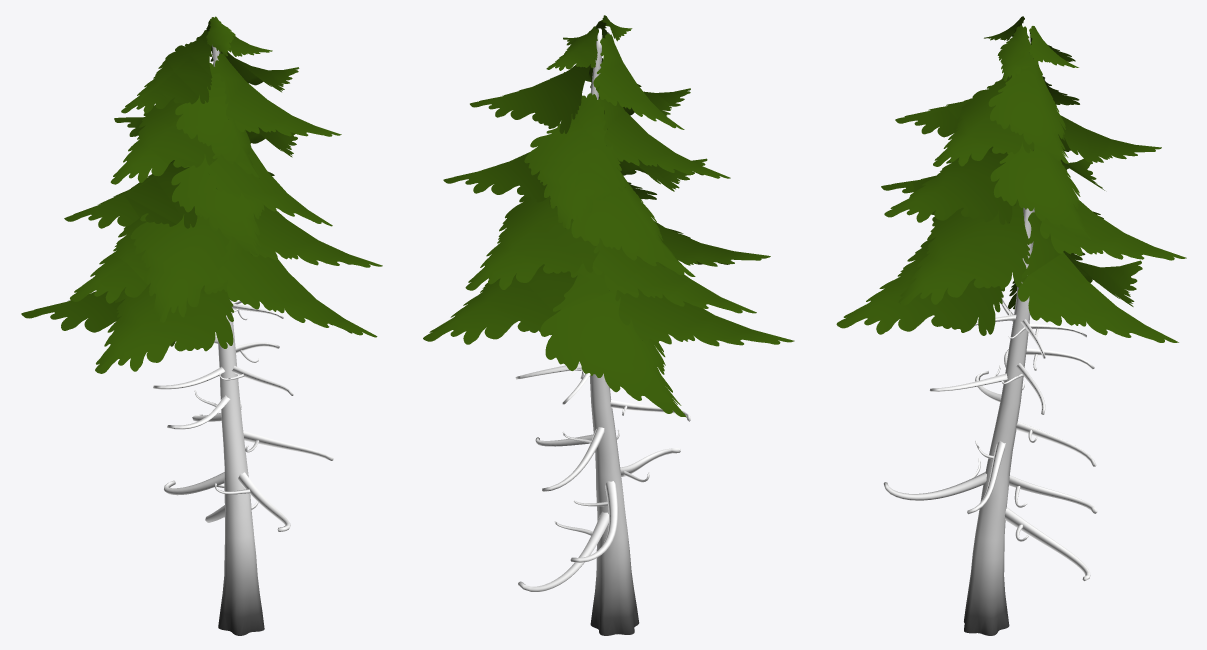
Rendered from Pine_3.gltf.
3 renders of one model, left to right at view 1: azimuth 30°, elevation 25°; view 2: azimuth 150°, elevation 25°; view 3: azimuth 270°, elevation 25°, orthographic. The views are drawn at different scales.
Visible parts, largest first — view 1: Pine_3; view 2: Pine_3; view 3: Pine_3.
Boxes of the visible parts, box(x1,y1,x2,y2) form: Pine_3: box(21, 16, 382, 635); Pine_3: box(423, 15, 794, 635); Pine_3: box(836, 16, 1186, 635).
Bounding box in the file's own units: 3.61 × 7.39 × 4.
2 materials, 1 textured.
